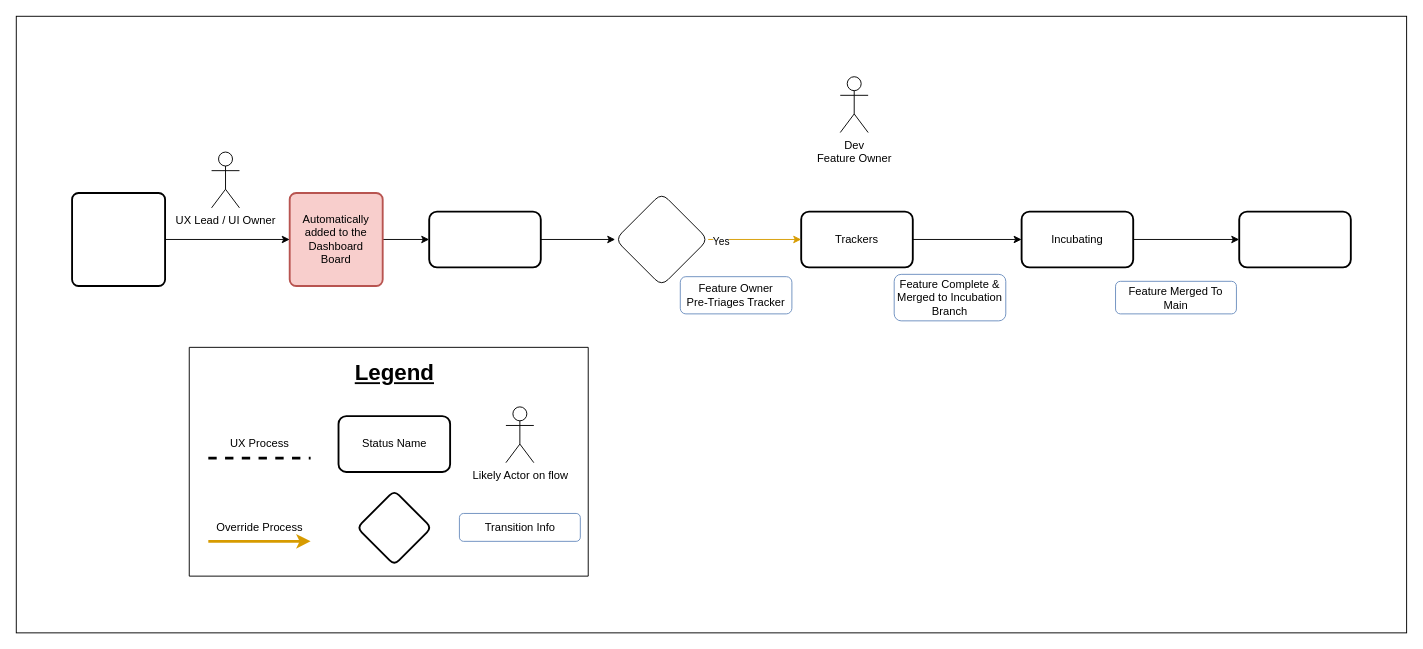
Some shapes in this 1423 by 649 pixel diagram are drawn without their labels. Here are the shapes that lost their labels. From the top down, the box of each, then its label:
(71, 192, 166, 286): (Internal) Tracker
(428, 210, 541, 268): Untriaged
(614, 192, 708, 286): Manual Intervention?
(1238, 210, 1351, 268): Done (Issue is closed)
(356, 489, 432, 565): Decision
